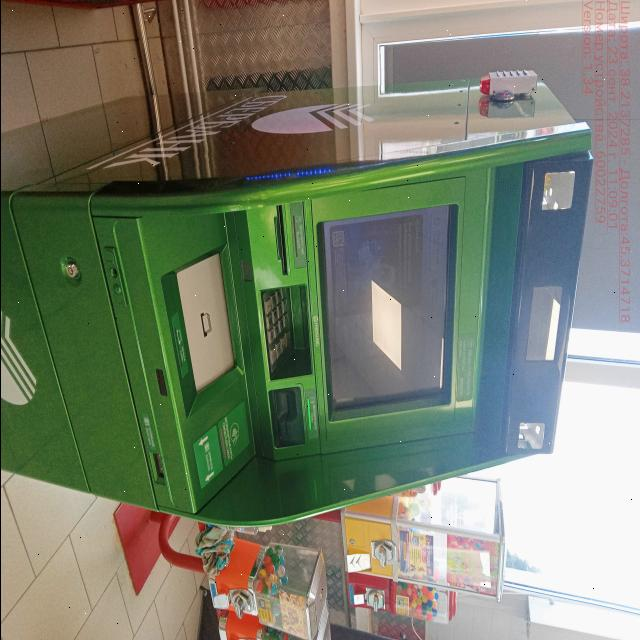bank: (0, 74, 597, 533)
